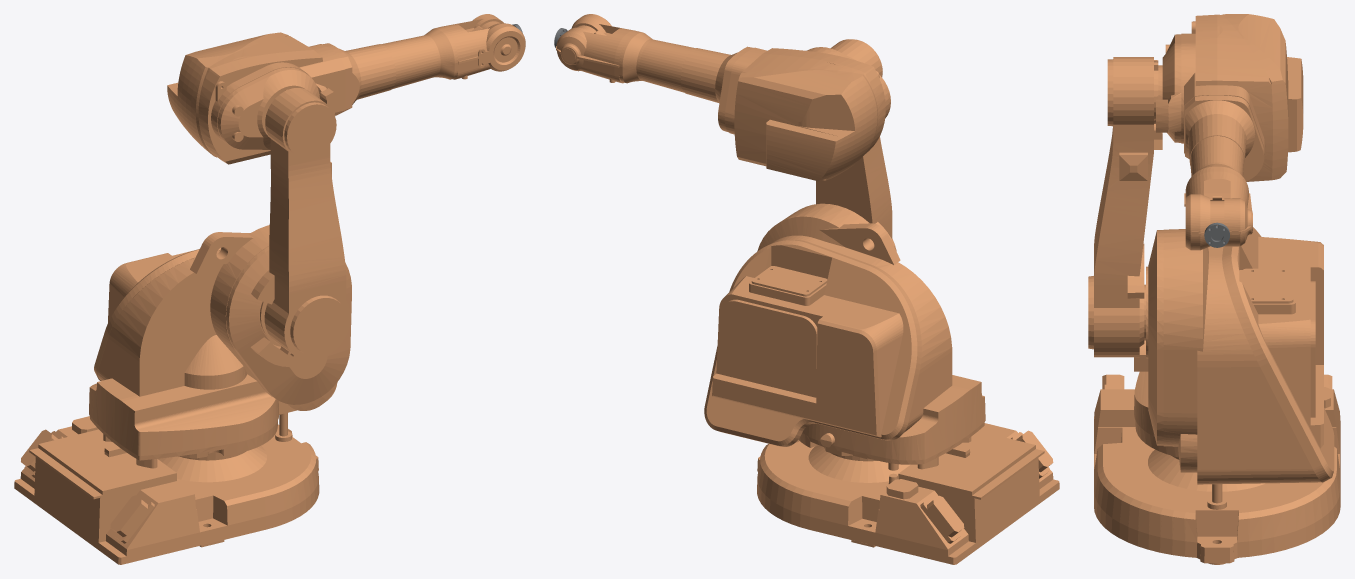
The model's file is abb_irb52_7_120.glb.
3 renders of one model, left to right at view 1: azimuth 30°, elevation 25°; view 2: azimuth 150°, elevation 25°; view 3: azimuth 270°, elevation 25°, orthographic. The views are drawn at different scales.
Visible parts, largest first — view 1: link_1, base_link, link_2, link_3, link_4; view 2: link_1, base_link, link_3, link_4, link_2; view 3: link_1, base_link, link_3, link_2, link_4, link_6, link_5.
Boxes of the visible parts, box(x1,y1,x2,y2) form: link_1: box(89, 225, 351, 468); base_link: box(14, 413, 319, 564); link_2: box(251, 88, 350, 360); link_3: box(167, 32, 396, 164); link_4: box(381, 14, 525, 88); link_1: box(704, 203, 985, 470); base_link: box(757, 423, 1059, 564); link_3: box(680, 46, 890, 181); link_4: box(556, 14, 695, 92); link_2: box(816, 39, 896, 251); link_1: box(1134, 227, 1334, 484); base_link: box(1094, 374, 1340, 564); link_3: box(1156, 14, 1303, 181); link_2: box(1088, 57, 1162, 357); link_4: box(1184, 136, 1252, 250); link_6: box(1204, 222, 1229, 247); link_5: box(1210, 200, 1224, 225).
Bounding box in the file's own units: 1.2 × 1.07 × 0.4943.
